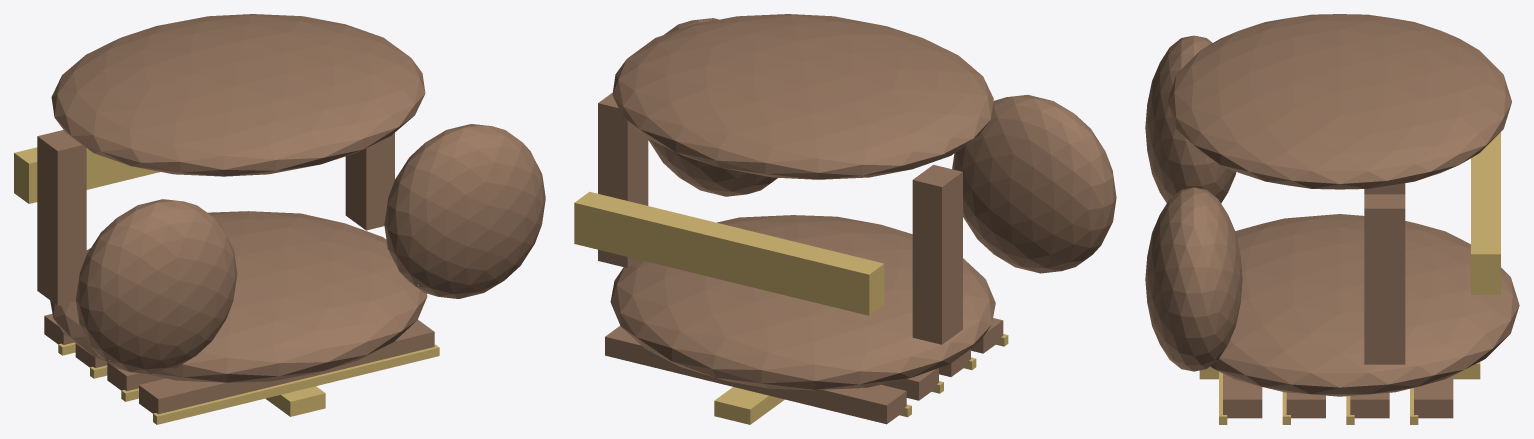
The model's file is captain_armour_leather.glb.
3 views of the same model, side by side, from view 1: azimuth 30°, elevation 25°; view 2: azimuth 150°, elevation 25°; view 3: azimuth 270°, elevation 25° (orthographic).
Visible parts, largest first — view 1: cuirass_back, shoulder_guard (×2), cuirass_front, side_strap (×2), front_segment_3, front_trim_3, lower_armour_rim, leather_cross_strap, front_segment_2; view 2: cuirass_back, cuirass_front, shoulder_guard (×2), lower_armour_rim, side_strap (×2), front_segment_0, leather_cross_strap, front_segment_1, front_segment_3; view 3: cuirass_back, cuirass_front, shoulder_guard (×2), side_strap (×2), lower_armour_rim, front_segment_3, front_segment_0, front_segment_2, front_segment_1, leather_cross_strap.
Part boxes in pixels (x1=…): cuirass_back: x1=51, y1=14, x2=425, y2=176; shoulder_guard (×2): x1=76, y1=124, x2=545, y2=374; cuirass_front: x1=50, y1=211, x2=427, y2=382; side_strap (×2): x1=37, y1=130, x2=394, y2=305; front_segment_3: x1=139, y1=320, x2=434, y2=414; front_trim_3: x1=153, y1=344, x2=439, y2=424; lower_armour_rim: x1=14, y1=147, x2=159, y2=203; leather_cross_strap: x1=265, y1=386, x2=325, y2=416; front_segment_2: x1=107, y1=362, x2=164, y2=390; cuirass_back: x1=612, y1=14, x2=993, y2=179; cuirass_front: x1=610, y1=215, x2=995, y2=390; shoulder_guard (×2): x1=648, y1=18, x2=1116, y2=273; lower_armour_rim: x1=574, y1=191, x2=884, y2=315; side_strap (×2): x1=598, y1=92, x2=962, y2=344; front_segment_0: x1=605, y1=326, x2=906, y2=424; leather_cross_strap: x1=714, y1=387, x2=784, y2=424; front_segment_1: x1=882, y1=368, x2=938, y2=400; front_segment_3: x1=971, y1=318, x2=1003, y2=353; cuirass_back: x1=1168, y1=14, x2=1511, y2=189; cuirass_front: x1=1210, y1=214, x2=1519, y2=396; shoulder_guard (×2): x1=1145, y1=35, x2=1242, y2=371; side_strap (×2): x1=1364, y1=183, x2=1405, y2=364; lower_armour_rim: x1=1471, y1=132, x2=1500, y2=294; front_segment_3: x1=1223, y1=373, x2=1262, y2=418; front_segment_0: x1=1414, y1=375, x2=1453, y2=418; front_segment_2: x1=1286, y1=392, x2=1325, y2=418; front_segment_1: x1=1350, y1=392, x2=1389, y2=418; leather_cross_strap: x1=1199, y1=362, x2=1480, y2=379.
Size of the model in its own units: 1.44 by 0.8925 by 1.
